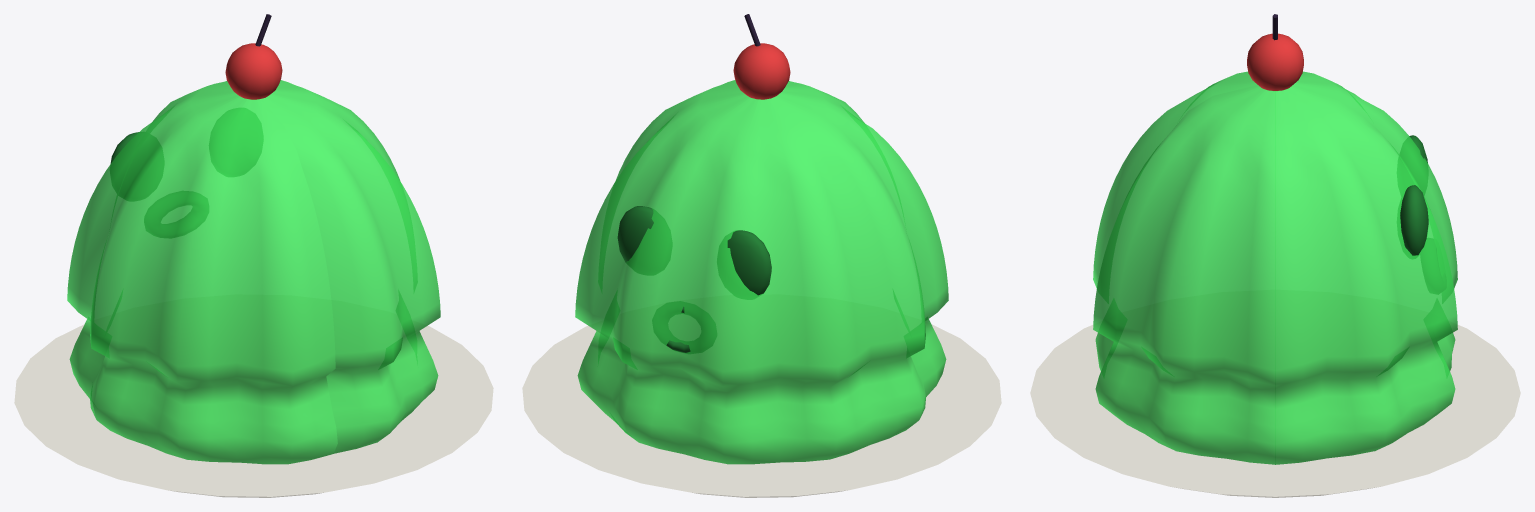
Rendered from gelatin.glb.
The picture shows the model from 3 angles, left to right: view 1: azimuth 30°, elevation 25°; view 2: azimuth 150°, elevation 25°; view 3: azimuth 270°, elevation 25°; orthographic projection. The views are drawn at different scales.
Parts seen in each view (by area): view 1: mGel_jelly, plate, mold; view 2: mGel_jelly, plate, mold; view 3: mGel_jelly, plate, mold.
Boxes of the visible parts, bbox=[...] form: mGel_jelly: bbox=[67, 80, 440, 464]; plate: bbox=[14, 324, 493, 497]; mold: bbox=[110, 14, 282, 163]; mGel_jelly: bbox=[575, 80, 948, 464]; plate: bbox=[522, 324, 1001, 497]; mold: bbox=[617, 14, 790, 352]; mGel_jelly: bbox=[1093, 71, 1457, 464]; plate: bbox=[1030, 324, 1520, 497]; mold: bbox=[1247, 14, 1428, 255].
Bounding box in the file's own units: 0.84 × 0.7587 × 0.84.
